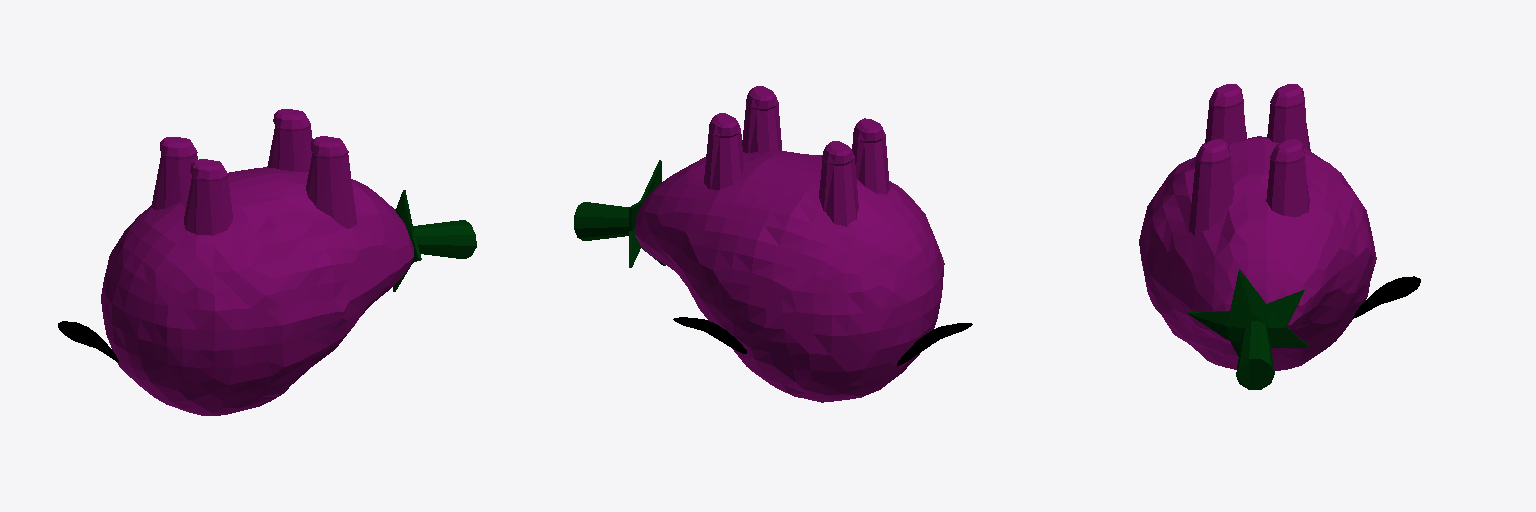
Rendered from bobadog.obj.
3 renders of one model, left to right at view 1: azimuth 30°, elevation 25°; view 2: azimuth 150°, elevation 25°; view 3: azimuth 270°, elevation 25°, orthographic.
Parts seen in each view (by area): view 1: Sphere, Cylinder.003, Cylinder.001, Sphere.001, Cylinder.005, Cylinder.002, Sphere.005; view 2: Sphere, Sphere.001, Cylinder.005, Cylinder.002, Cylinder.001, Cylinder.003, Sphere.005, Sphere.006; view 3: Sphere, Sphere.001, Cylinder.003, Cylinder.002, Cylinder.005, Cylinder.001, Sphere.006.
Boxes of the visible parts, box(x1,y1,x2,y2) form: Sphere: box(101, 167, 413, 415); Cylinder.003: box(306, 136, 356, 228); Cylinder.001: box(184, 159, 232, 235); Sphere.001: box(391, 190, 476, 291); Cylinder.005: box(151, 137, 197, 209); Cylinder.002: box(267, 109, 312, 171); Sphere.005: box(58, 321, 118, 361); Sphere: box(635, 151, 944, 402); Sphere.001: box(574, 160, 665, 267); Cylinder.005: box(819, 141, 858, 226); Cylinder.002: box(704, 113, 743, 189); Cylinder.001: box(852, 118, 889, 194); Cylinder.003: box(742, 86, 781, 152); Sphere.005: box(897, 323, 972, 365); Sphere.006: box(673, 317, 746, 353); Sphere: box(1139, 136, 1376, 370); Sphere.001: box(1187, 269, 1308, 389); Cylinder.003: box(1189, 139, 1233, 235); Cylinder.002: box(1266, 139, 1309, 216); Cylinder.005: box(1267, 84, 1310, 150); Cylinder.001: box(1205, 84, 1246, 144); Sphere.006: box(1353, 276, 1420, 318).
Bounding box in the file's own units: 3.97 × 2.49 × 2.43.